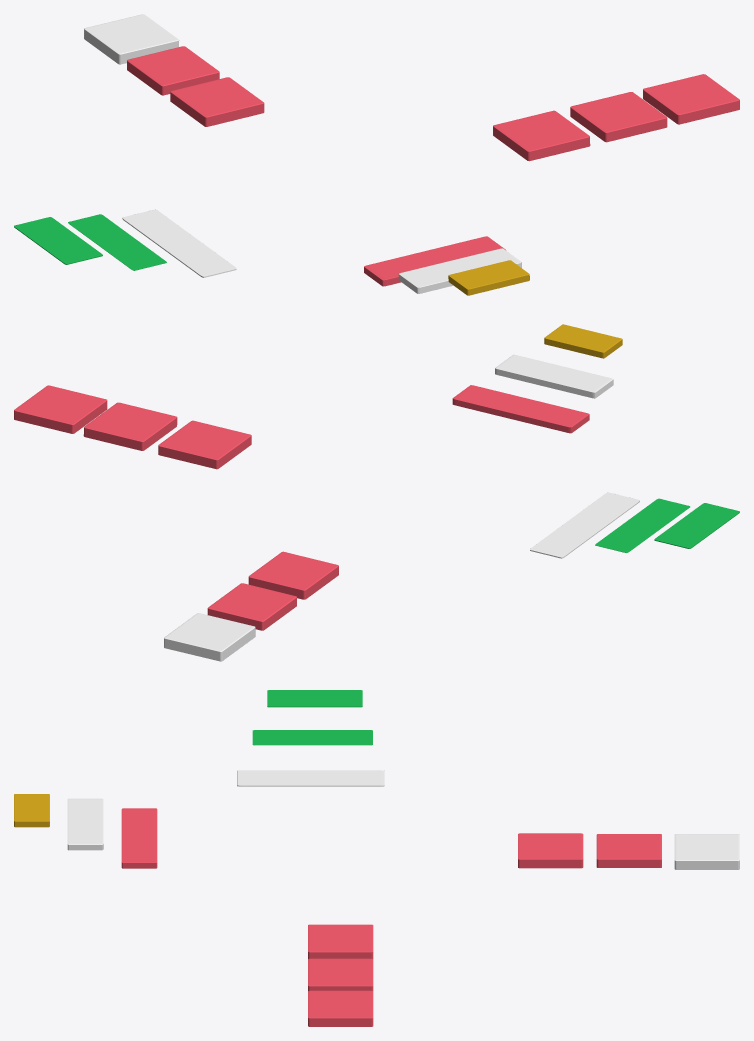
Rendered from jump_domi6.gltf.
The picture shows the model from 3 angles, top to bottom: view 1: azimuth 30°, elevation 25°; view 2: azimuth 150°, elevation 25°; view 3: azimuth 270°, elevation 25°; orthographic projection. The views are drawn at different scales.
Visible parts, largest first — view 1: Cube left (×3), Cube right (×2), Cube bottom (×3), Cube top (×2), Cube right center, Cube top center; view 2: Cube bottom (×3), Cube left (×3), Cube right (×2), Cube top (×2), Cube right center, Cube top center; view 3: Cube left (×3), Cube bottom (×3), Cube top (×2), Cube right (×2), Cube top center, Cube right center.
Boxes of the visible parts, left/top/right/bottom form: Cube left (×3): left=14, top=209, right=236, bottom=277; Cube right (×2): left=570, top=74, right=739, bottom=142; Cube bottom (×3): left=364, top=236, right=529, bottom=295; Cube top (×2): left=84, top=14, right=219, bottom=95; Cube right center: left=493, top=110, right=590, bottom=161; Cube top center: left=170, top=77, right=264, bottom=126; Cube bottom (×3): left=452, top=324, right=622, bottom=433; Cube left (×3): left=530, top=492, right=739, bottom=558; Cube right (×2): left=14, top=385, right=177, bottom=450; Cube top (×2): left=164, top=583, right=296, bottom=661; Cube right center: left=158, top=420, right=251, bottom=469; Cube top center: left=248, top=551, right=338, bottom=599; Cube left (×3): left=237, top=690, right=384, bottom=786; Cube bottom (×3): left=14, top=794, right=157, bottom=868; Cube top (×2): left=596, top=834, right=739, bottom=869; Cube right (×2): left=308, top=958, right=373, bottom=1026; Cube top center: left=518, top=833, right=583, bottom=868; Cube right center: left=308, top=924, right=373, bottom=958.
Size of the model in its own units: 13.37 by 0.8582 by 13.31.
